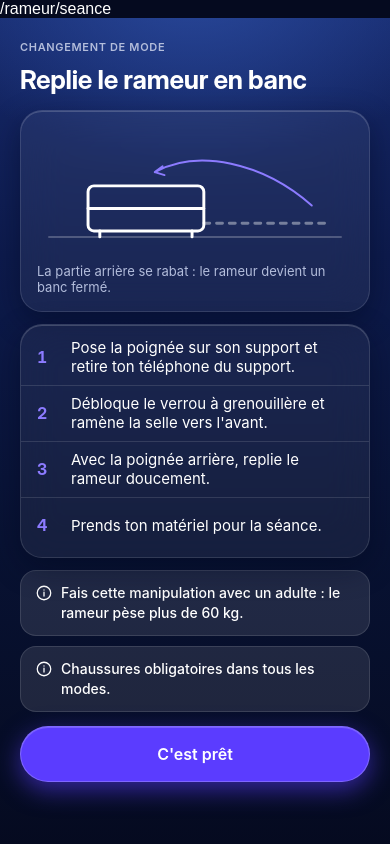
changement de mode › après l'échauffement, montre les gestes de pliage et le retrait du téléphone, puis passe à la séance
Check: the heading "Replie le rameur en banc" is shown, box [20,64,307,95]
Check: the text "retire ton téléphone du support" is shown, box [71,338,318,376]
Step 1. Click the button "C'est prêt" → [195, 754], box [20,726,370,782]
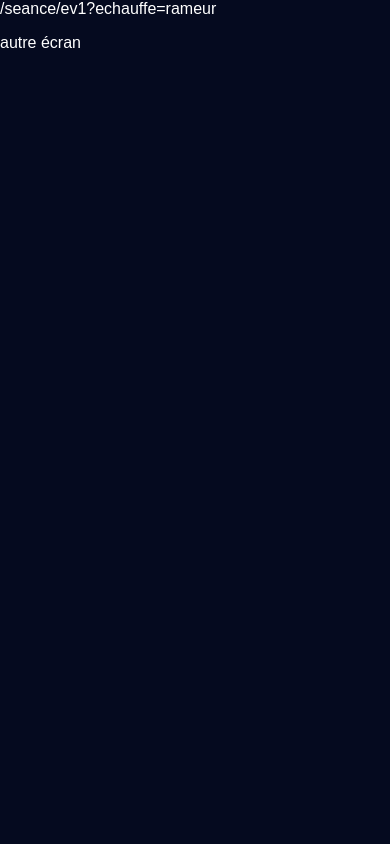
Check: the text with test id "where" reads "/seance/ev1?echauffe=rameur", box [0,0,216,17]
